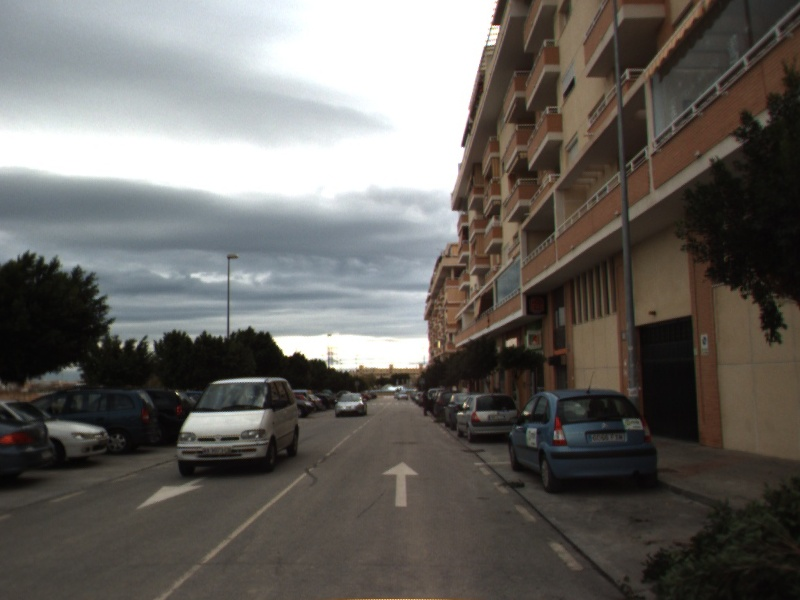STRAIGHT: (380, 460, 421, 509)
